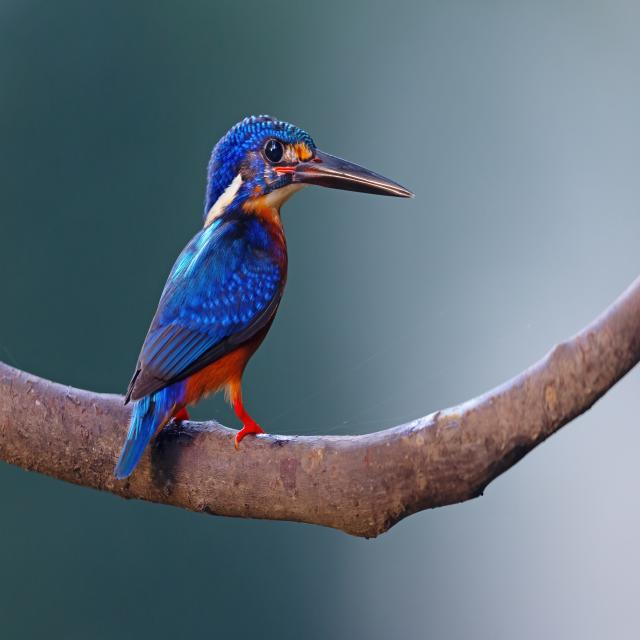kingfisher: (103, 73, 429, 506)
